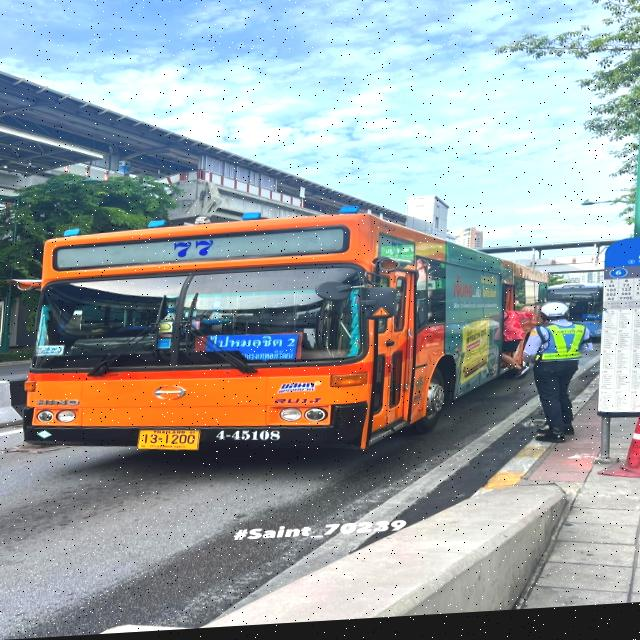BMTA-bus: (23, 209, 548, 471)
Bus-Line-Number: (156, 238, 230, 262)
Destination-Sign-Normal: (198, 331, 302, 371)
